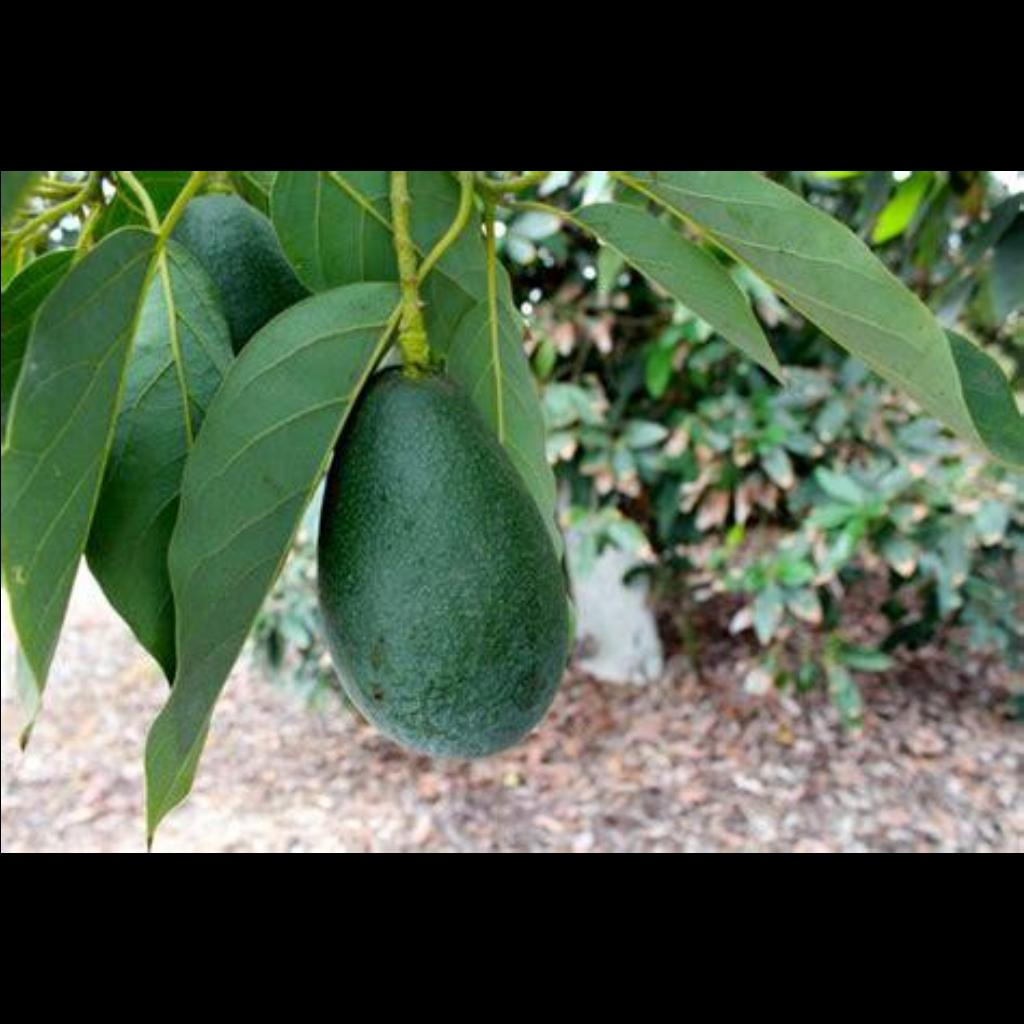Healthy: (309, 362, 581, 768)
